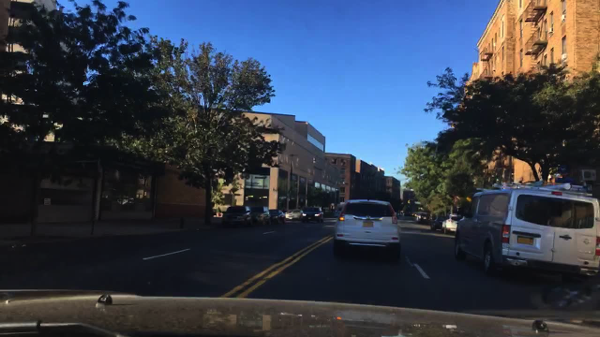car: (451, 181, 599, 280), (330, 198, 402, 261), (220, 206, 253, 229), (441, 213, 465, 236), (250, 206, 271, 226), (302, 206, 323, 226), (431, 214, 447, 234), (413, 212, 432, 226), (268, 210, 286, 224), (283, 209, 302, 221), (330, 210, 341, 219)
traffic sign: (557, 163, 570, 176), (568, 177, 578, 188), (555, 178, 566, 187)
